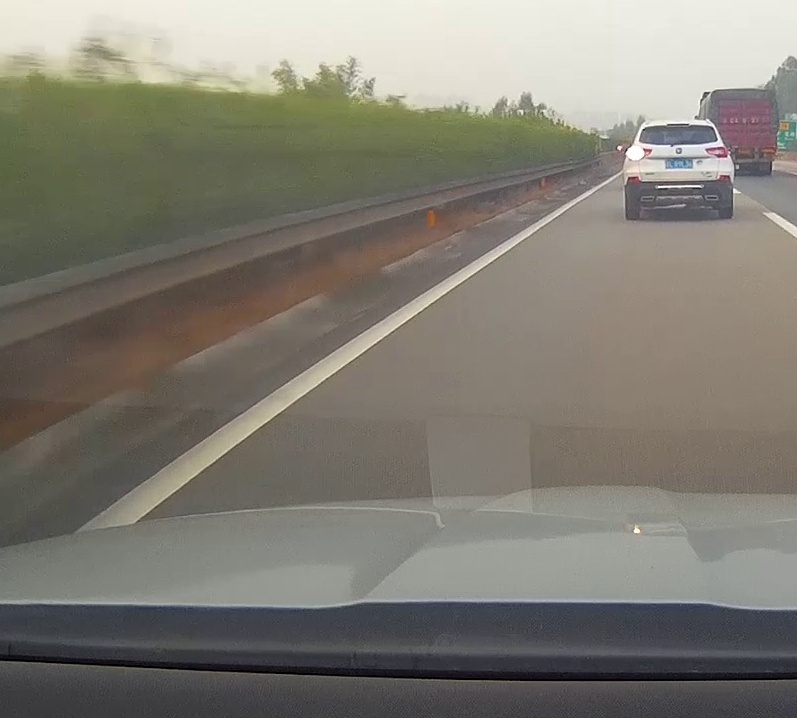L_light: (628, 148, 652, 157)
R_light: (705, 147, 728, 158)
T_light: (669, 124, 689, 127)
day-left: (623, 122, 734, 220)
